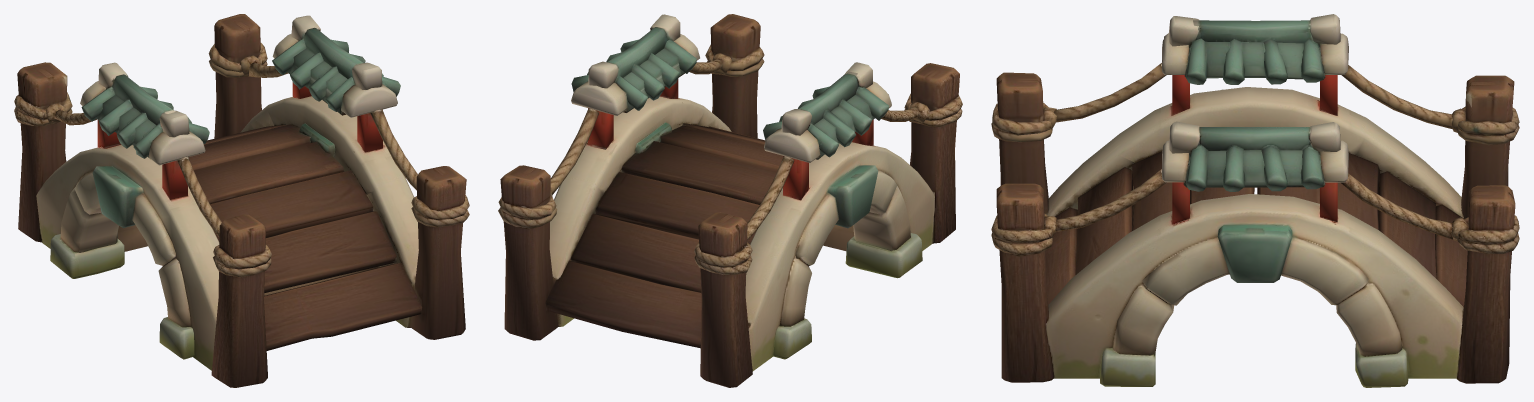
Rendered from tripo_convert_c98b33c4-85ee-4cc6-847a-9e65222832e5.fbx.
The picture shows the model from 3 angles, left to right: view 1: azimuth 30°, elevation 25°; view 2: azimuth 150°, elevation 25°; view 3: azimuth 270°, elevation 25°; orthographic projection. The views are drawn at different scales.
Parts seen in each view (by area): view 1: tripo_node_c98b33c4; view 2: tripo_node_c98b33c4; view 3: tripo_node_c98b33c4.
Boxes of the visible parts, <box> form: tripo_node_c98b33c4: <box>14,14,469,387</box>; tripo_node_c98b33c4: <box>498,14,962,387</box>; tripo_node_c98b33c4: <box>991,14,1519,387</box>.
Bounding box in the file's own units: 0.666 × 0.5137 × 0.998.
Materials: 1 (1 with a texture image).
